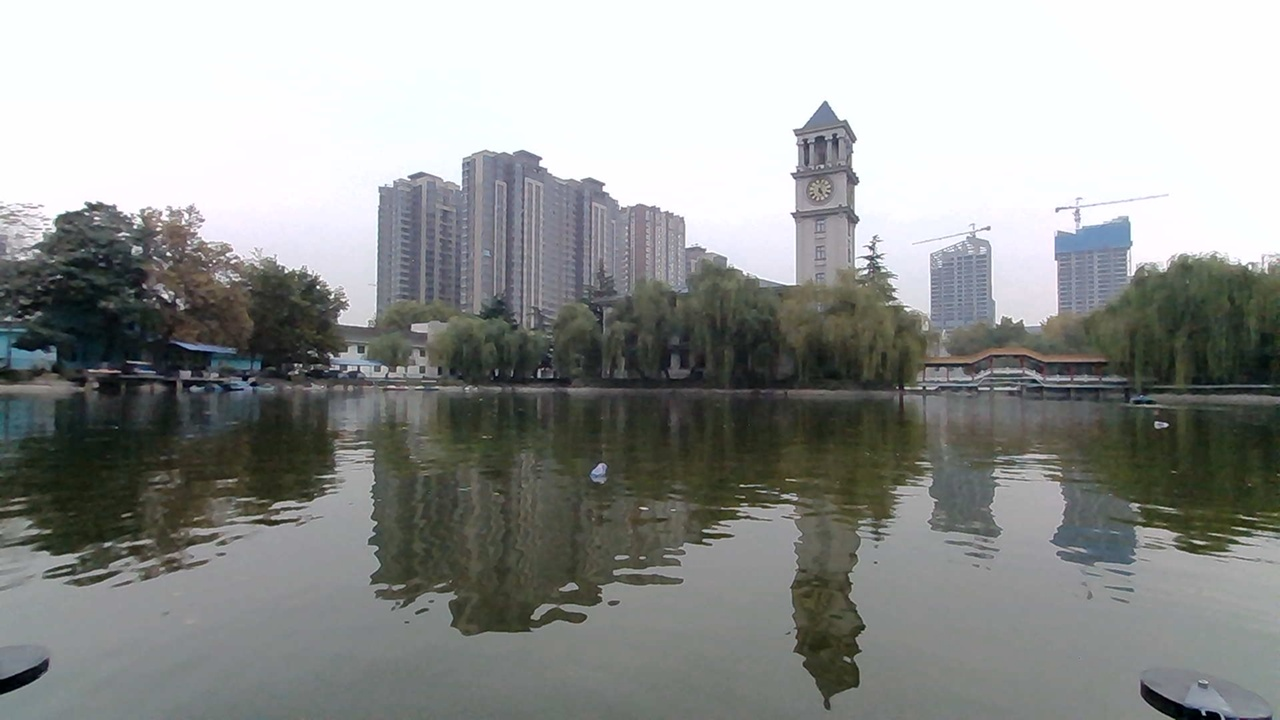bottle: (557, 441, 635, 488), (1139, 410, 1179, 437)
